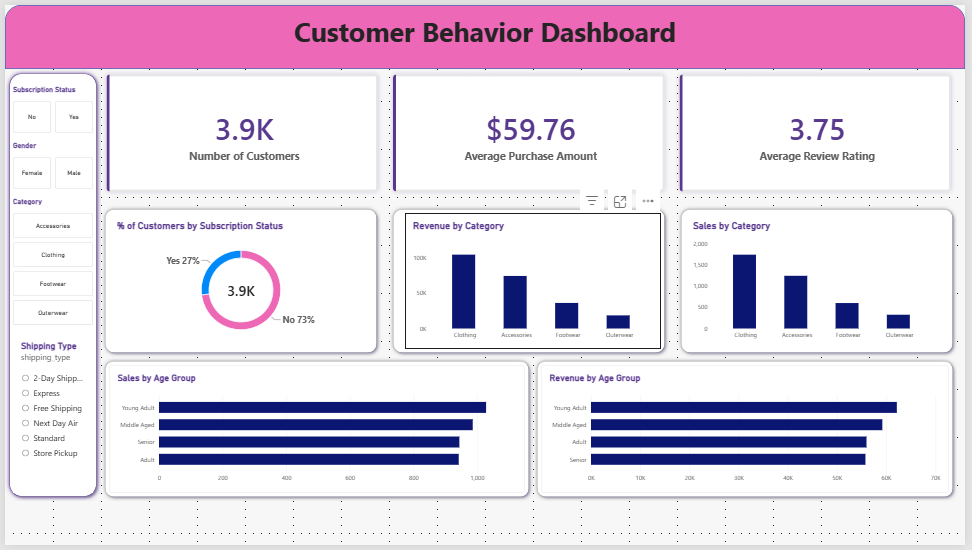

Layout of this report page (visuals, bound fields, positions):
{"tool":"powerbi","page":{"name":"Page 1","canvas":[1920,1080],"ordinal":0},"visuals":[{"type":"cardVisual","fields":{"Data":["public customer.Number of Customers","public customer.Average Purchase Amount","public customer.Average Review Rating"]},"box":[192,128,1712,256],"z":0},{"type":"shape","box":[0,0,1920,128],"z":1},{"type":"textbox","box":[0,16,1920,96],"z":2},{"type":"shape","box":[192,400,560,304],"z":3},{"type":"donutChart","title":"% of Customers by Subscription Status","fields":{"Category":["public customer.subscription_status"],"Y":["CountNonNull(public customer.customer_id)"]},"box":[208,416,528,272],"z":4},{"type":"shape","box":[768,400,560,304],"z":5},{"type":"shape","box":[1344,400,560,304],"z":6},{"type":"clusteredColumnChart","title":"Revenue by Category","fields":{"Category":["public customer.category"],"Y":["Sum(public customer.purchase_amount)"]},"box":[800,416,512,272],"z":7},{"type":"clusteredColumnChart","title":"Sales by Category","fields":{"Category":["public customer.category"],"Y":["CountNonNull(public customer.customer_id)"]},"box":[1360,416,512,272],"z":8},{"type":"shape","box":[0,128,192,864],"z":9},{"type":"advancedSlicerVisual","title":"Subscription Status","fields":{"Values":["public customer.subscription_status"]},"box":[16,160,160,96],"z":10},{"type":"advancedSlicerVisual","title":"Gender","fields":{"Values":["public customer.gender"]},"box":[16,272,160,96],"z":11},{"type":"advancedSlicerVisual","title":"Category","fields":{"Values":["public customer.category"]},"box":[16,384,160,256],"z":12},{"type":"listSlicer","title":"Shipping Type","fields":{"Values":["public customer.shipping_type"]},"box":[16,656,160,320],"z":13},{"type":"shape","box":[192,704,864,288],"z":14},{"type":"clusteredBarChart","title":"Sales by Age Group","fields":{"Category":["public customer.age_group"],"Y":["CountNonNull(public customer.customer_id)"]},"box":[208,720,832,256],"z":15},{"type":"shape","box":[1056,704,848,288],"z":16},{"type":"clusteredBarChart","title":"Revenue by Age Group","fields":{"Category":["public customer.age_group"],"Y":["Sum(public customer.purchase_amount)"]},"box":[1072,720,816,256],"z":17}]}

Visuals, with their boxes in screenshot pixels (x1, y1, x2, y2), scaled from the page's 1920x1080 canvas onto the 972x550 screenshot:
cardVisual - public customer.Number of Customers x public customer.Average Purchase Amount: [x1=97, y1=65, x2=964, y2=196]
shape: [x1=0, y1=0, x2=971, y2=65]
textbox: [x1=0, y1=8, x2=971, y2=57]
shape: [x1=97, y1=204, x2=381, y2=359]
"% of Customers by Subscription Status" donutChart: [x1=105, y1=212, x2=373, y2=350]
shape: [x1=389, y1=204, x2=672, y2=359]
shape: [x1=680, y1=204, x2=964, y2=359]
"Revenue by Category" clusteredColumnChart: [x1=405, y1=212, x2=664, y2=350]
"Sales by Category" clusteredColumnChart: [x1=688, y1=212, x2=948, y2=350]
shape: [x1=0, y1=65, x2=97, y2=505]
"Subscription Status" advancedSlicerVisual: [x1=8, y1=81, x2=89, y2=130]
"Gender" advancedSlicerVisual: [x1=8, y1=139, x2=89, y2=187]
"Category" advancedSlicerVisual: [x1=8, y1=196, x2=89, y2=326]
"Shipping Type" listSlicer: [x1=8, y1=334, x2=89, y2=497]
shape: [x1=97, y1=359, x2=535, y2=505]
"Sales by Age Group" clusteredBarChart: [x1=105, y1=367, x2=526, y2=497]
shape: [x1=535, y1=359, x2=964, y2=505]
"Revenue by Age Group" clusteredBarChart: [x1=543, y1=367, x2=956, y2=497]
